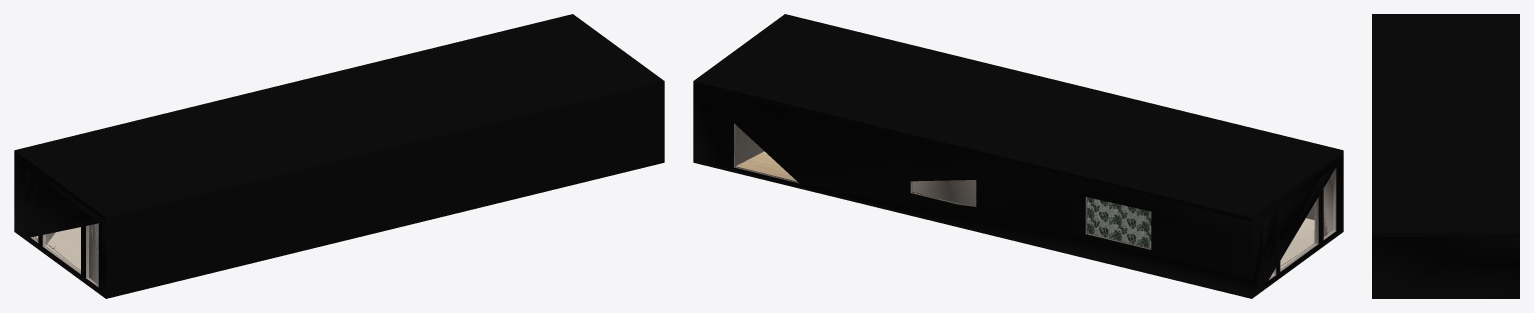
The model's file is casa-completa-02.glb.
3 views of the same model, side by side, from view 1: azimuth 30°, elevation 25°; view 2: azimuth 150°, elevation 25°; view 3: azimuth 270°, elevation 25° (orthographic). The views are drawn at different scales.
Parts seen in each view (by area): view 1: Plane.002; view 2: Plane.002; view 3: Plane.002.
Boxes of the visible parts, x1,y1,x2,y2 form: Plane.002: (14, 14, 664, 298); Plane.002: (693, 14, 1343, 298); Plane.002: (1372, 14, 1519, 298).
Size of the model in its own units: 24.44 by 3.4 by 6.96.
Materials: 54 (26 with a texture image).
